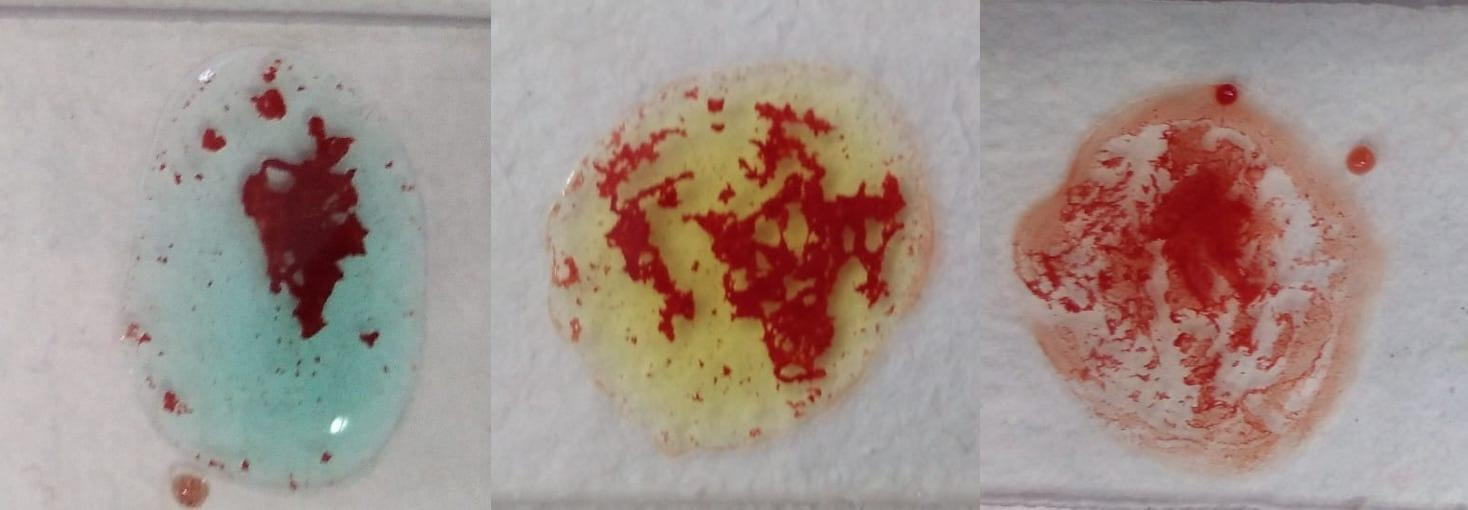A: (115, 47, 446, 483)
B: (565, 67, 918, 450)
D: (1019, 93, 1362, 464)
